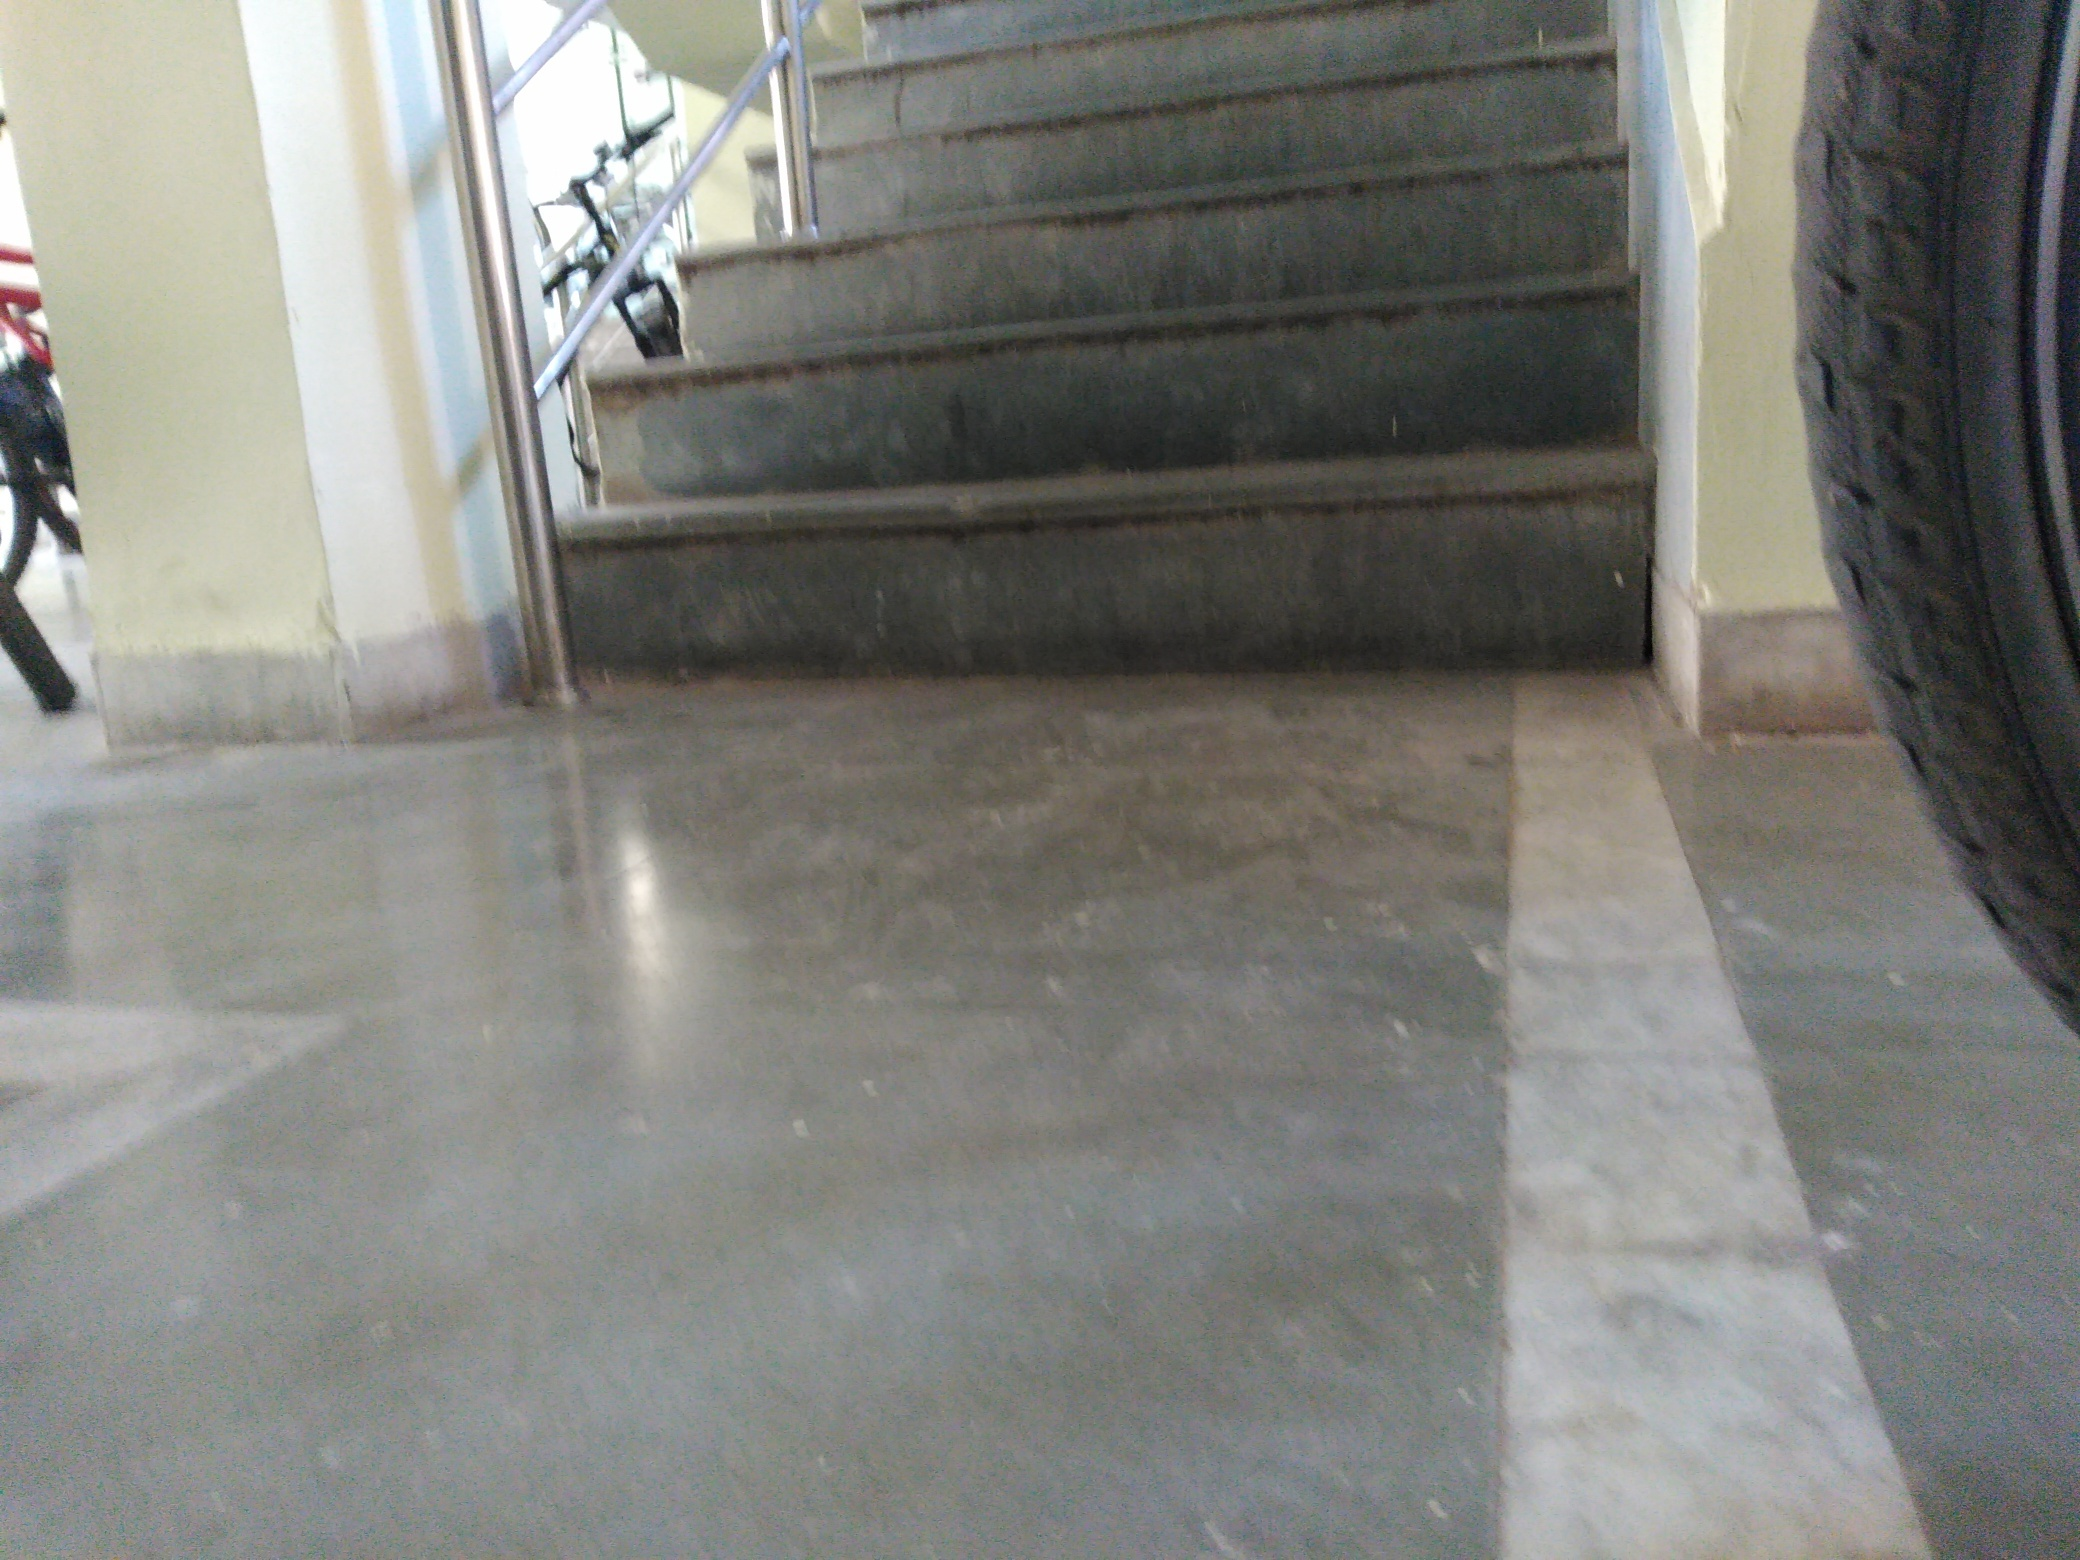stairs_up: (508, 11, 1625, 710)
